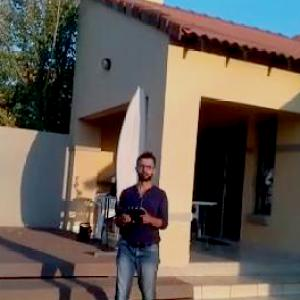follow: (106, 144, 175, 299)
